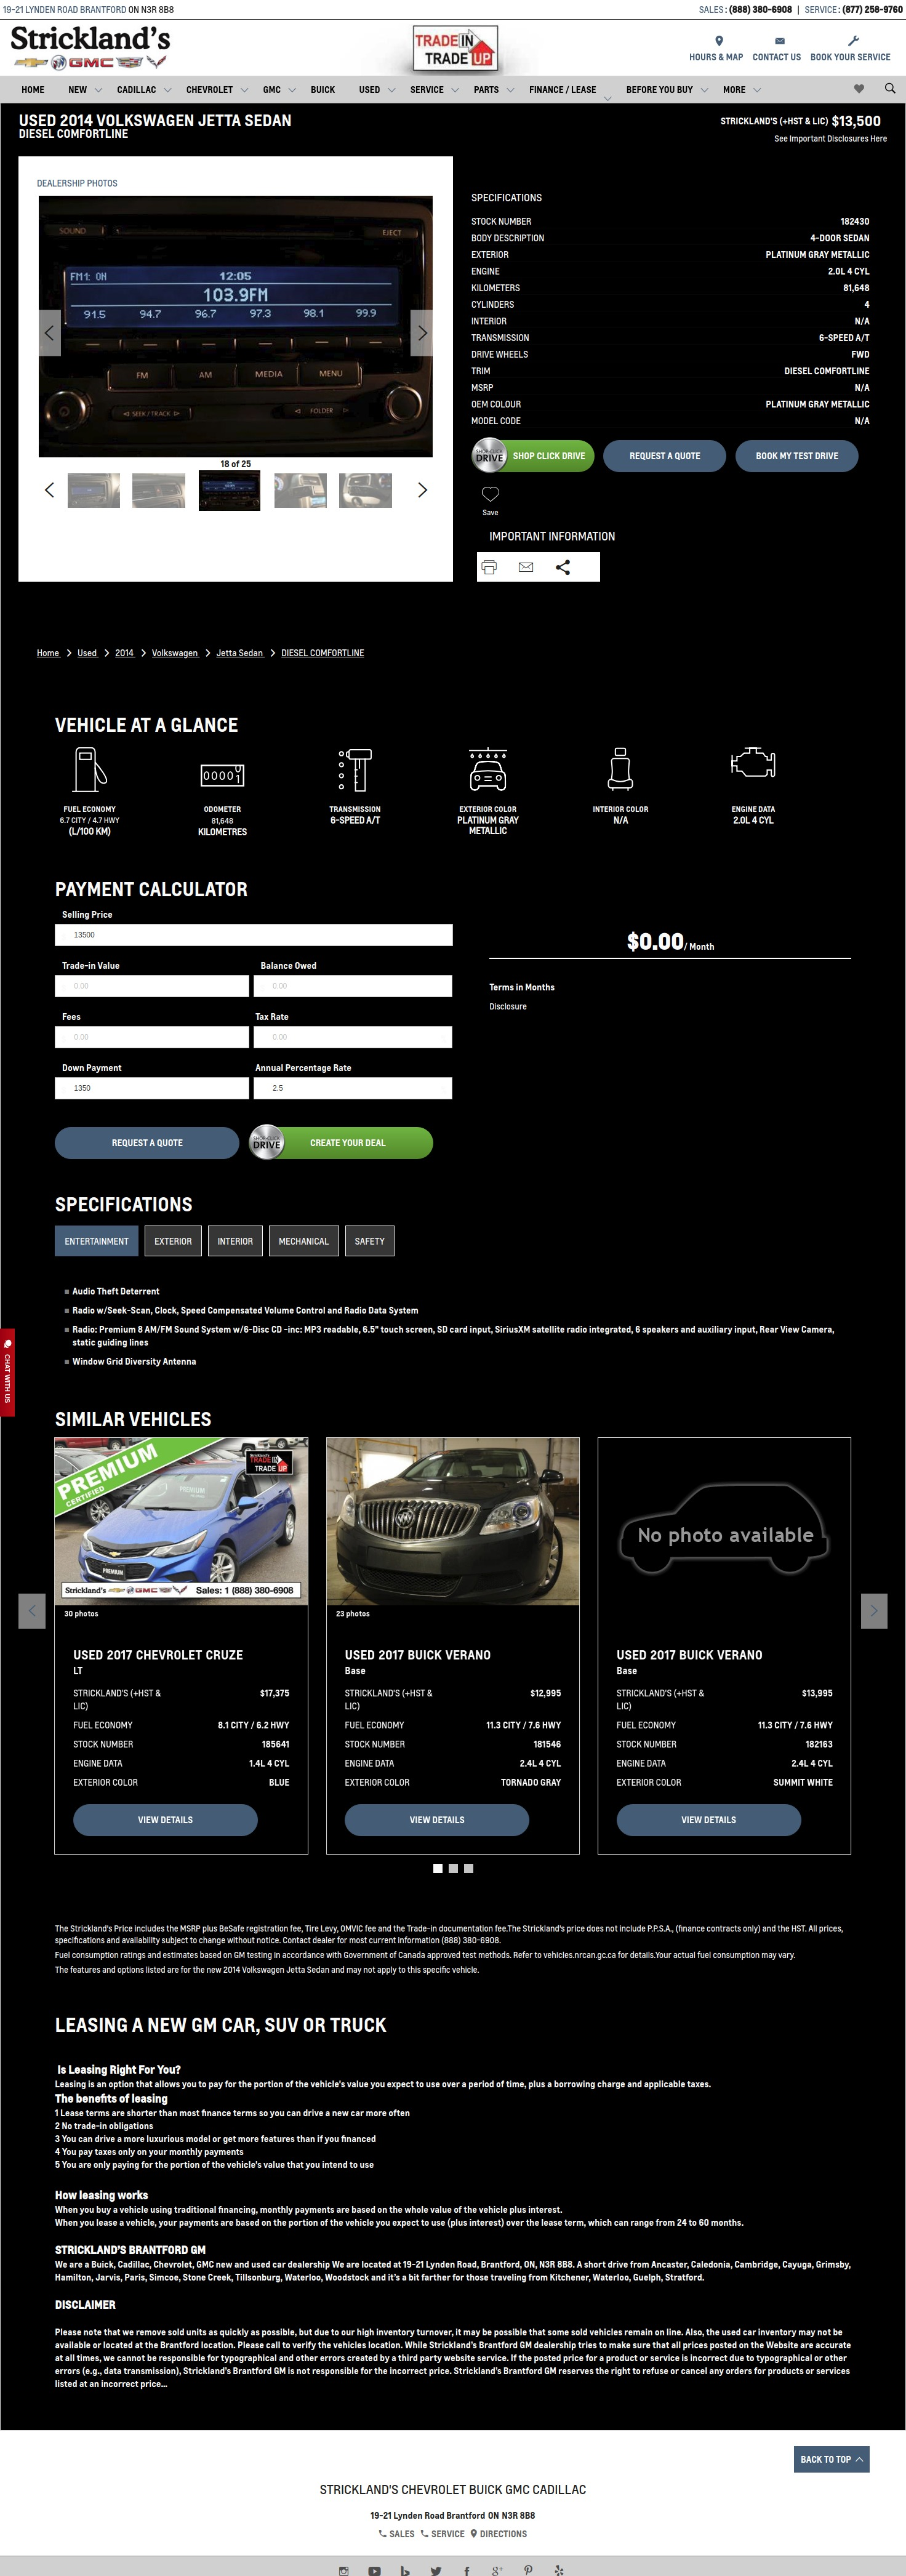car: (414, 480, 432, 503)
